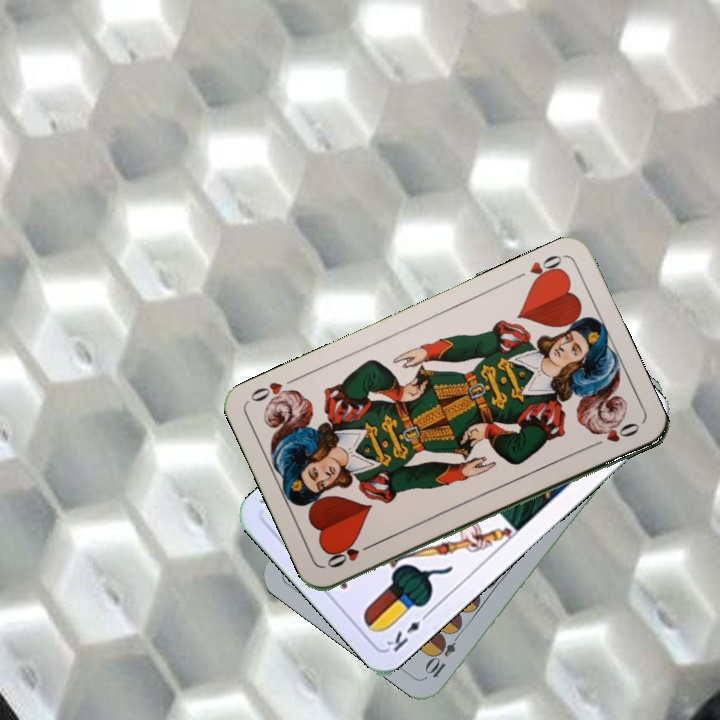E10: (422, 626, 464, 681)
EK: (382, 607, 433, 655)
HO: (509, 250, 567, 288), (322, 539, 378, 571)
